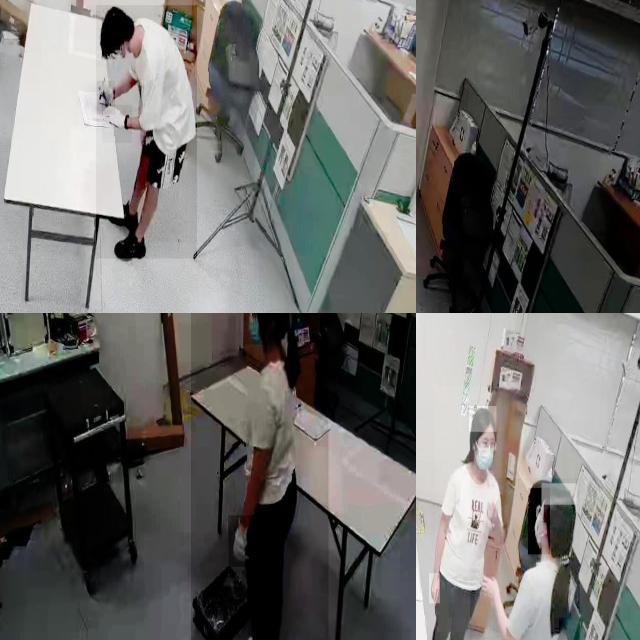face_mask: (469, 424, 498, 477), (528, 488, 550, 554), (243, 313, 266, 344)
hand_glove: (228, 515, 256, 568), (102, 105, 132, 143), (97, 80, 115, 114)
hand_noglove: (480, 571, 500, 600), (429, 573, 441, 604)
head_nohelmet: (98, 5, 114, 60), (541, 484, 577, 506), (469, 406, 497, 433)
person: (191, 313, 329, 640), (96, 6, 198, 260), (469, 478, 580, 640), (435, 386, 502, 640)
shoes: (114, 229, 148, 265)
